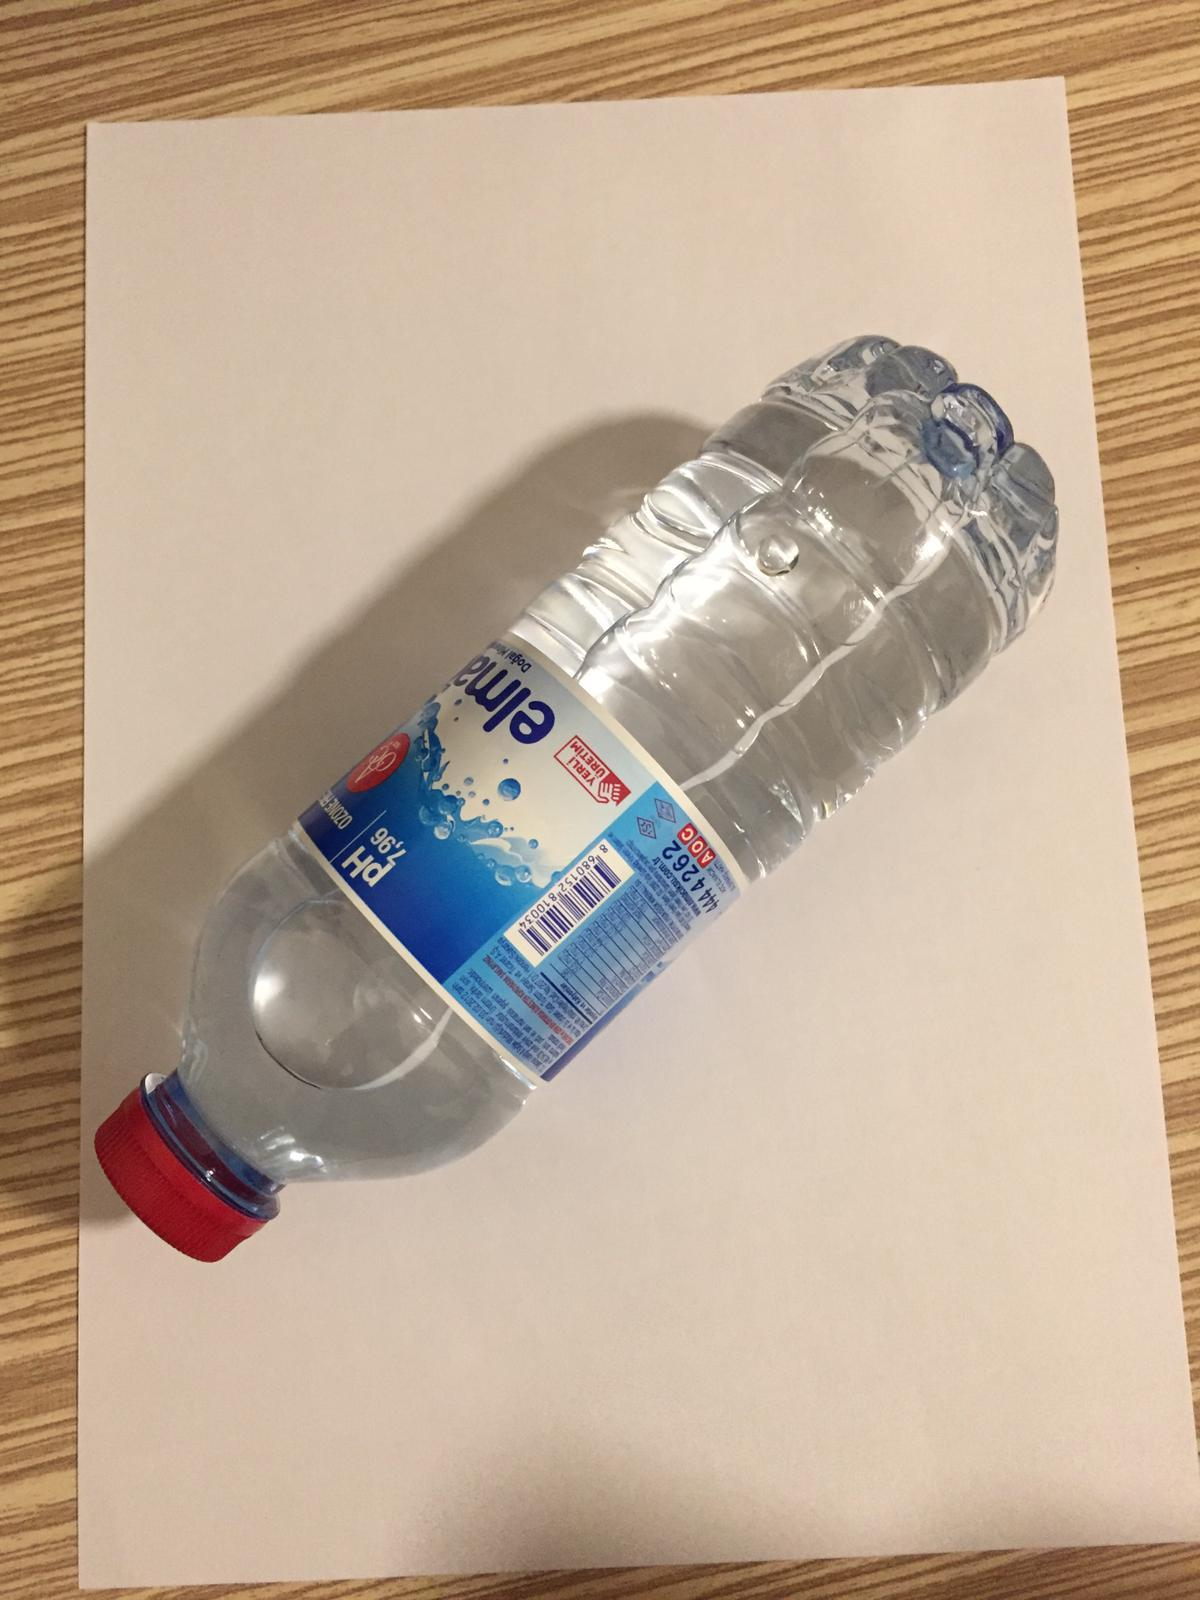bottle: (88, 334, 1071, 1260)
